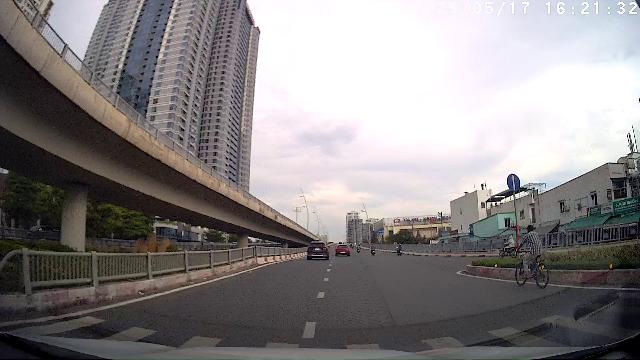301a-cac-xe-chi-duoc-di-thang: (506, 173, 521, 193)
